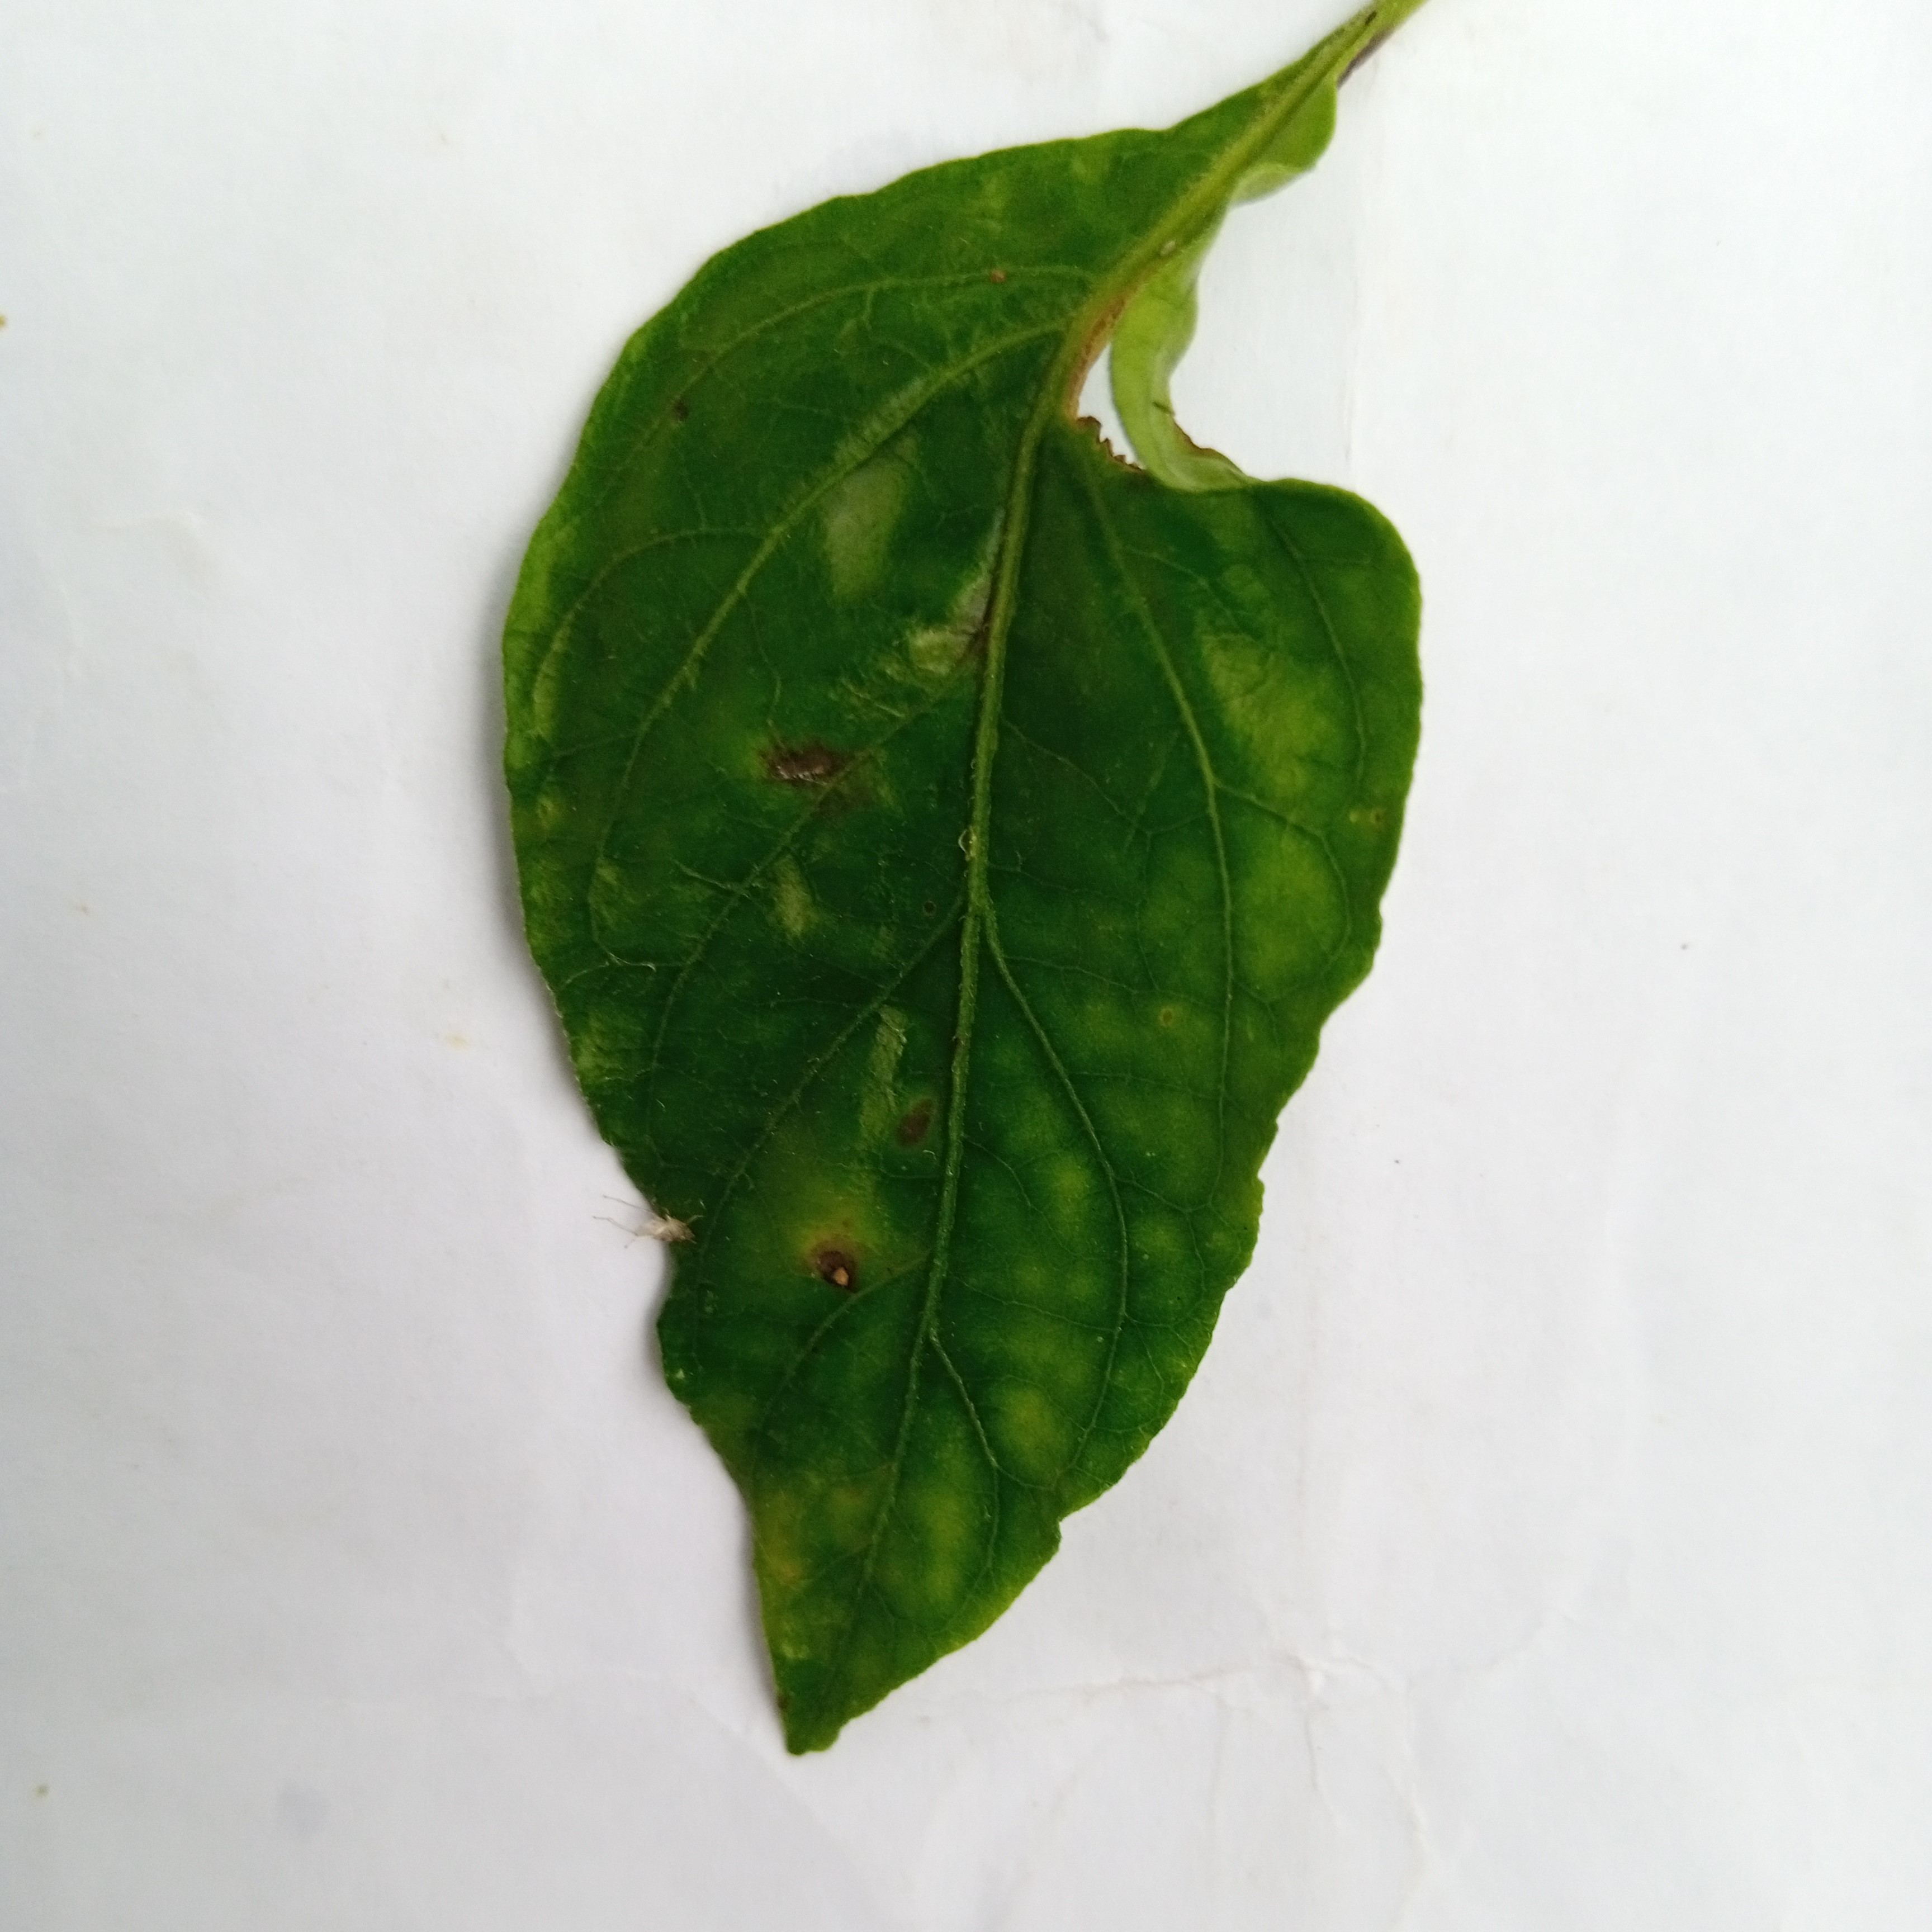Leaf: (269, 71, 1663, 1789)
